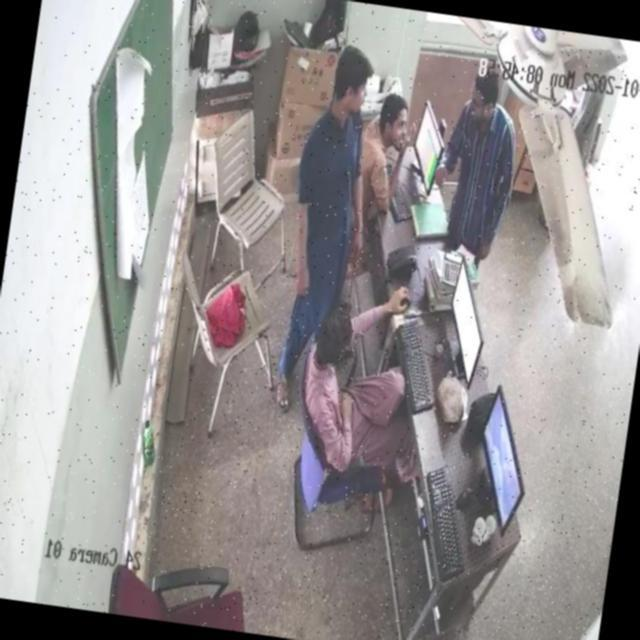person: (268, 44, 374, 412), (289, 326, 422, 484), (441, 72, 521, 250), (348, 84, 411, 238)
